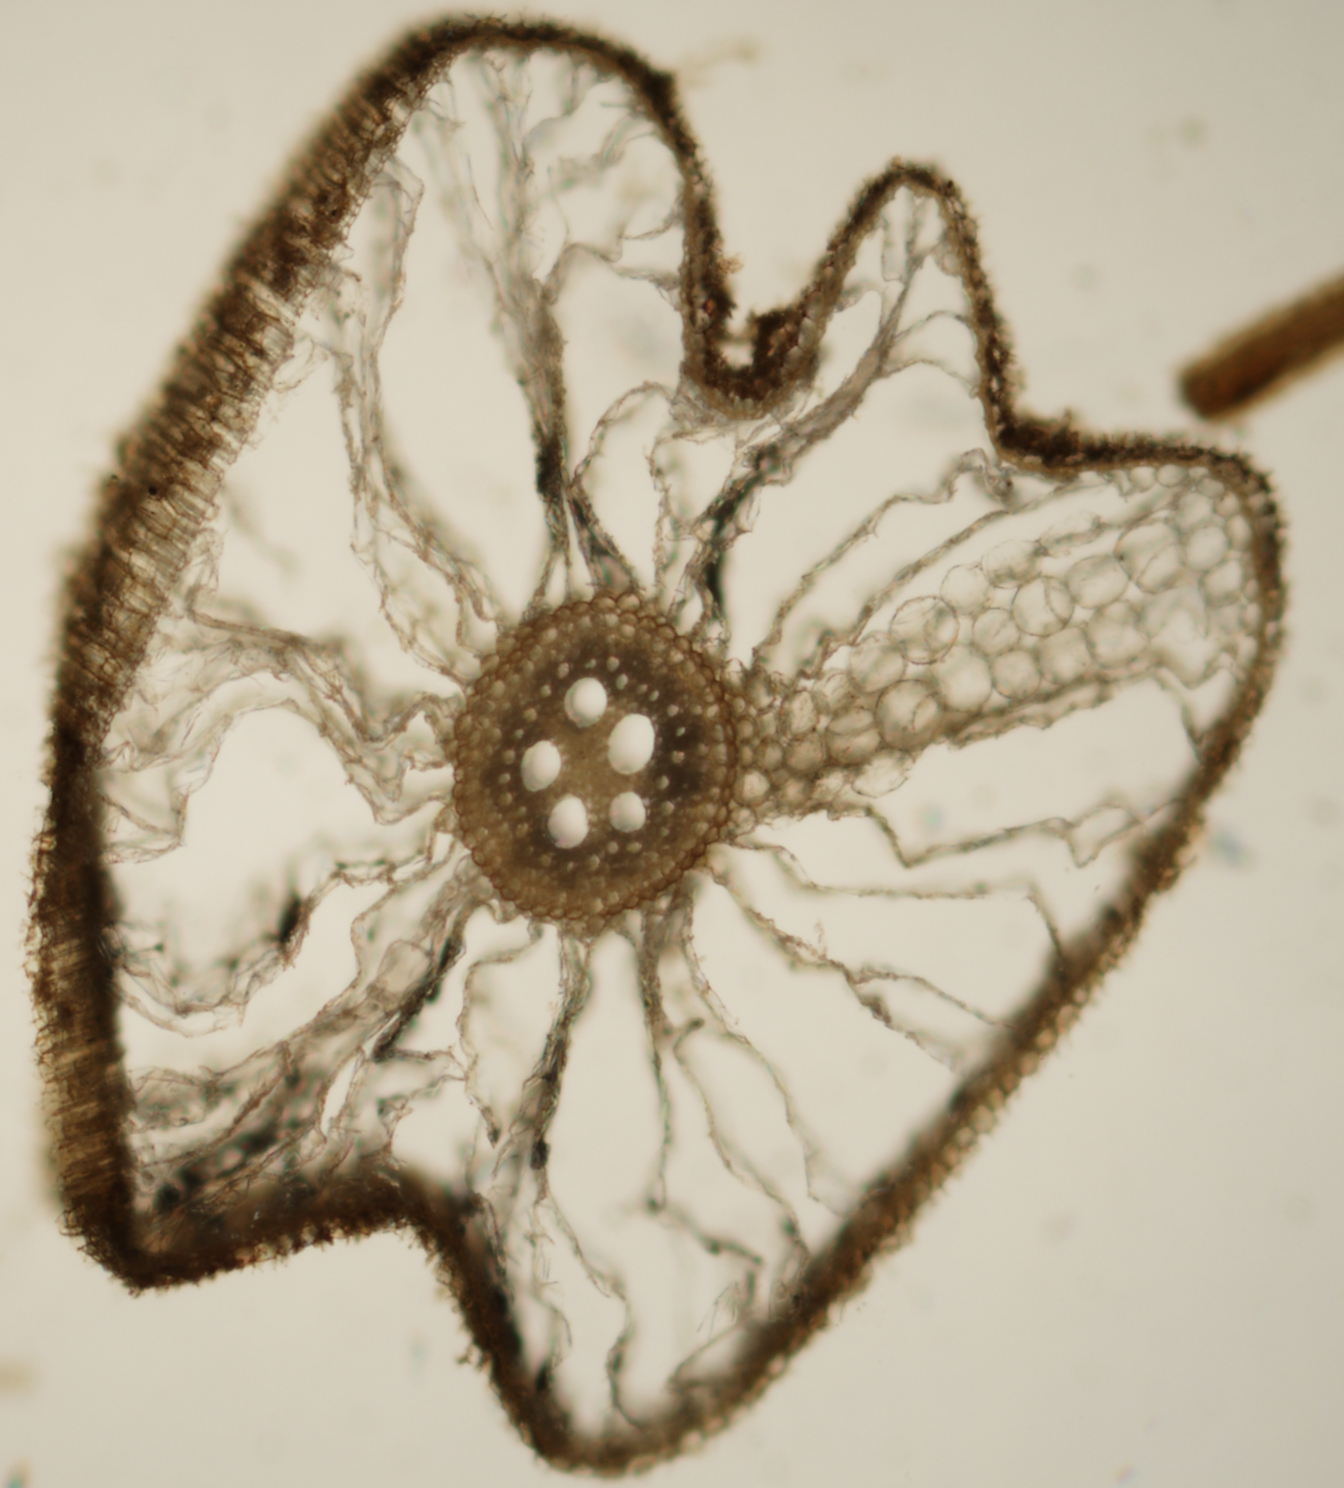lm: (605, 712, 655, 775), (547, 795, 588, 850), (564, 677, 607, 728), (520, 739, 561, 792), (607, 791, 645, 832)
